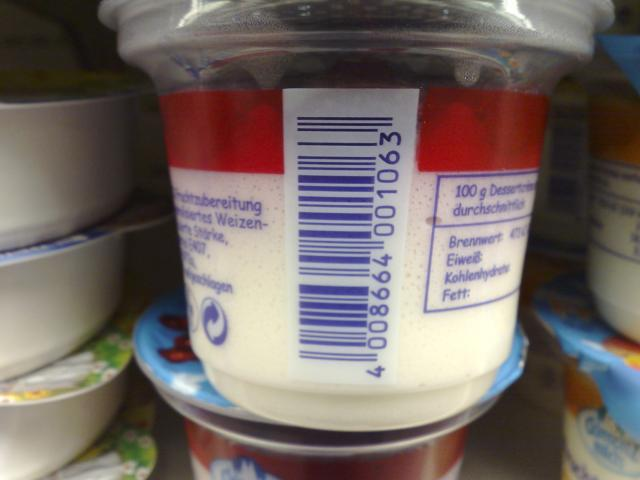Barkod: (293, 113, 376, 358)
